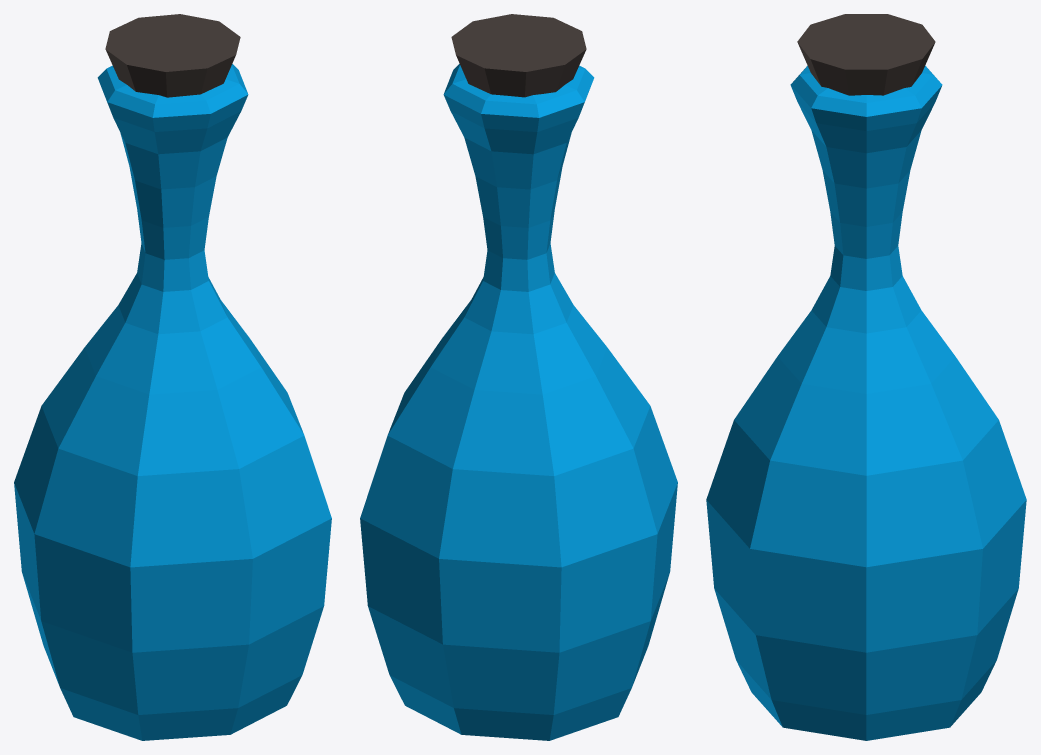
File: Mana_Potion_002.fbx
3 views of the same model, side by side, from view 1: azimuth 30°, elevation 25°; view 2: azimuth 150°, elevation 25°; view 3: azimuth 270°, elevation 25° (orthographic).
Visible parts, largest first — view 1: Mana Potion.002; view 2: Mana Potion.002; view 3: Mana Potion.002.
Part boxes in pixels (x1,y1,x2,y2): Mana Potion.002: (14,14,331,740); Mana Potion.002: (360,14,677,740); Mana Potion.002: (706,14,1026,740).
Size of the model in its own units: 15.55 by 35.22 by 15.55.
